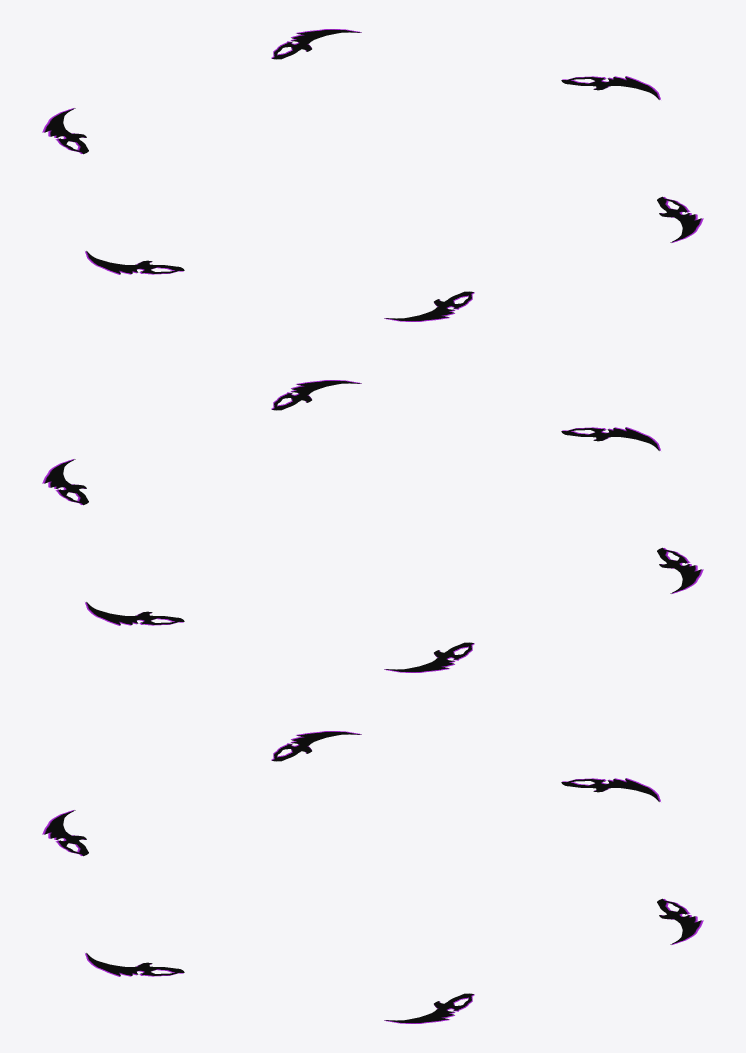
File: plane_arc_04.FBX
3 renders of one model, top to bottom at view 1: azimuth 30°, elevation 25°; view 2: azimuth 150°, elevation 25°; view 3: azimuth 270°, elevation 25°, orthographic.
Parts seen in each view (by area): view 1: Plane006; view 2: Plane006; view 3: Plane006.
Boxes of the visible parts, <box> form: Plane006: <box>42,29,703,321</box>; Plane006: <box>42,380,703,672</box>; Plane006: <box>42,731,703,1023</box>.
Bounding box in the file's own units: 9.93 × 5.71e-16 × 9.33.
1 material, 1 textured.
